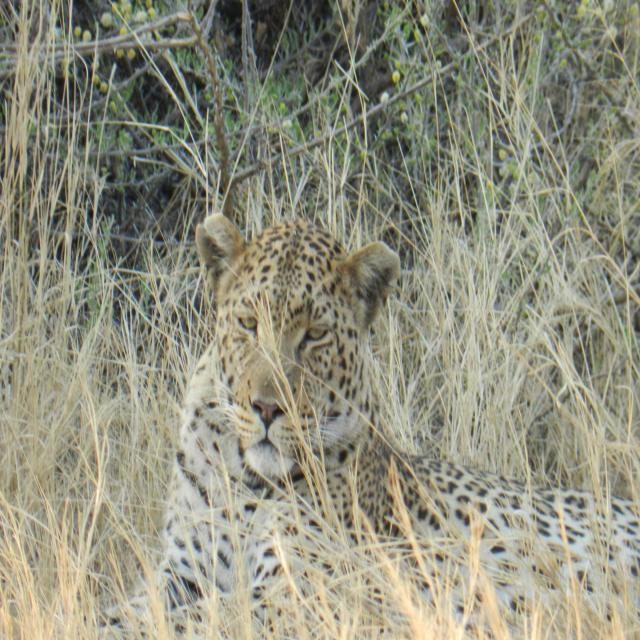Leopard: (86, 200, 640, 640)
